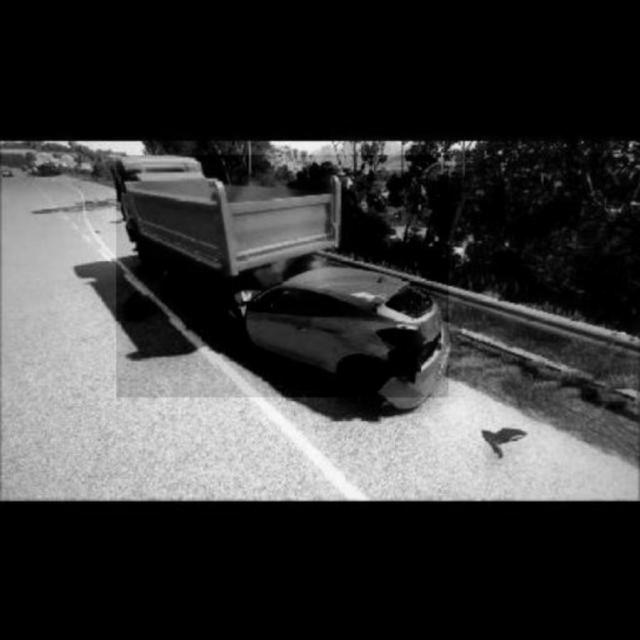accident: (117, 155, 449, 398)
